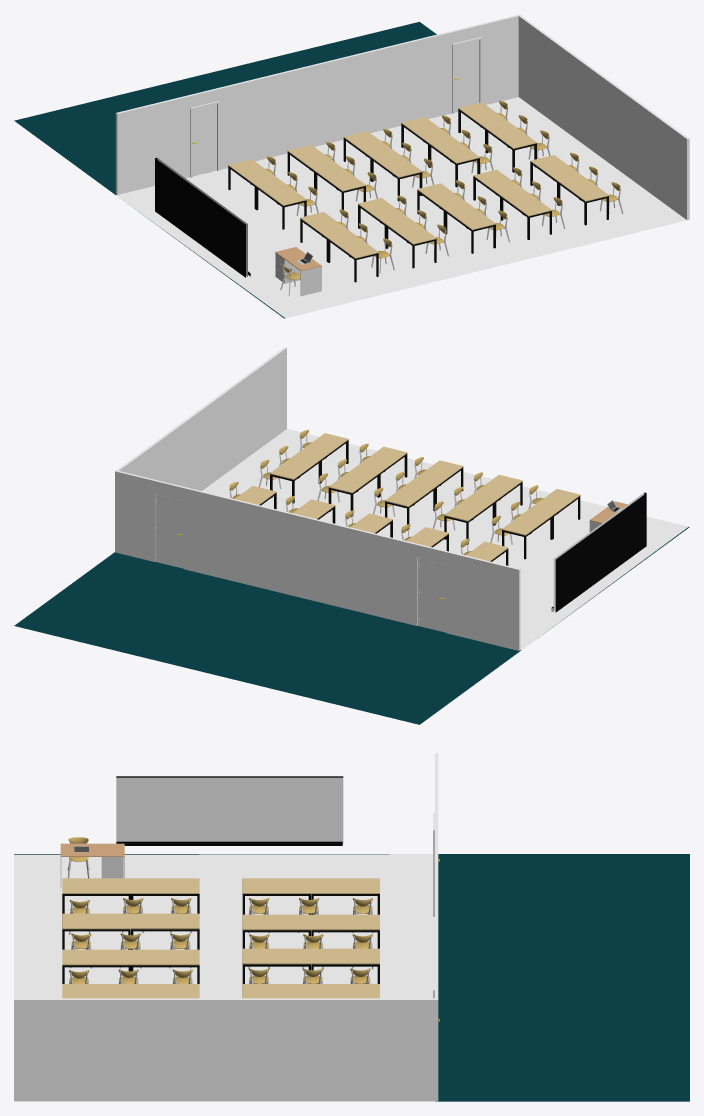
File: classroom2.glb
3 views of the same model, one above another, from view 1: azimuth 30°, elevation 25°; view 2: azimuth 150°, elevation 25°; view 3: azimuth 270°, elevation 25° (orthographic). The views are drawn at different scales.
Visible parts, largest first — view 1: room_4_14, wall_2_4, wall_3_11, ground_1, 204, sweethome3d_opening_on_hinge_1_door_23, sweethome3d_opening_on_hinge_1_door_117, Bottom_24, Table_229, Table_51, Table_57, Table_69 (+21 smaller); view 2: ground_1, wall_2_5, room_4_14, wall_3_11, 204, sweethome3d_opening_on_hinge_1_door_23, sweethome3d_opening_on_hinge_1_door_117, Table_78, Table_226, Table_39, Table_54, Table_66 (+5 smaller); view 3: ground_1, wall_3_10, room_4_14, 205, 204, Table_57, Table_69, Table_51, Table_54, Table_60, Table_63, Table_66 (+13 smaller).
Part boxes in pixels (x1,y1,x2,y2): room_4_14: (116, 97, 686, 318); wall_2_4: (116, 16, 518, 194); wall_3_11: (518, 16, 688, 220); ground_1: (14, 22, 436, 318); 204: (155, 158, 250, 277); sweethome3d_opening_on_hinge_1_door_23: (192, 104, 216, 176); sweethome3d_opening_on_hinge_1_door_117: (454, 40, 479, 112); Bottom_24: (275, 253, 321, 296); Table_229: (558, 175, 608, 201); Table_51: (385, 218, 436, 244); Table_57: (315, 165, 365, 191); Table_69: (371, 151, 422, 177); ground_1: (14, 527, 689, 724); wall_2_5: (115, 471, 519, 650); room_4_14: (202, 428, 688, 650); wall_3_11: (119, 348, 286, 490); 204: (551, 492, 646, 612); sweethome3d_opening_on_hinge_1_door_23: (419, 558, 445, 632); sweethome3d_opening_on_hinge_1_door_117: (156, 494, 182, 568); Table_78: (328, 466, 379, 493); Table_226: (270, 453, 321, 479); Table_39: (501, 509, 552, 535); Table_54: (444, 495, 495, 521); Table_66: (384, 480, 435, 506); ground_1: (14, 854, 689, 1101); wall_3_10: (14, 1000, 438, 1101); room_4_14: (14, 854, 434, 1101); 205: (116, 777, 343, 843); 204: (116, 776, 343, 845); Table_57: (242, 914, 311, 930); Table_69: (242, 948, 311, 964); Table_51: (62, 913, 130, 929); Table_54: (131, 913, 199, 929); Table_60: (311, 914, 379, 930); Table_63: (62, 949, 130, 965); Table_66: (131, 949, 199, 965).
Size of the model in its own units: 1276 by 244 by 1473.
